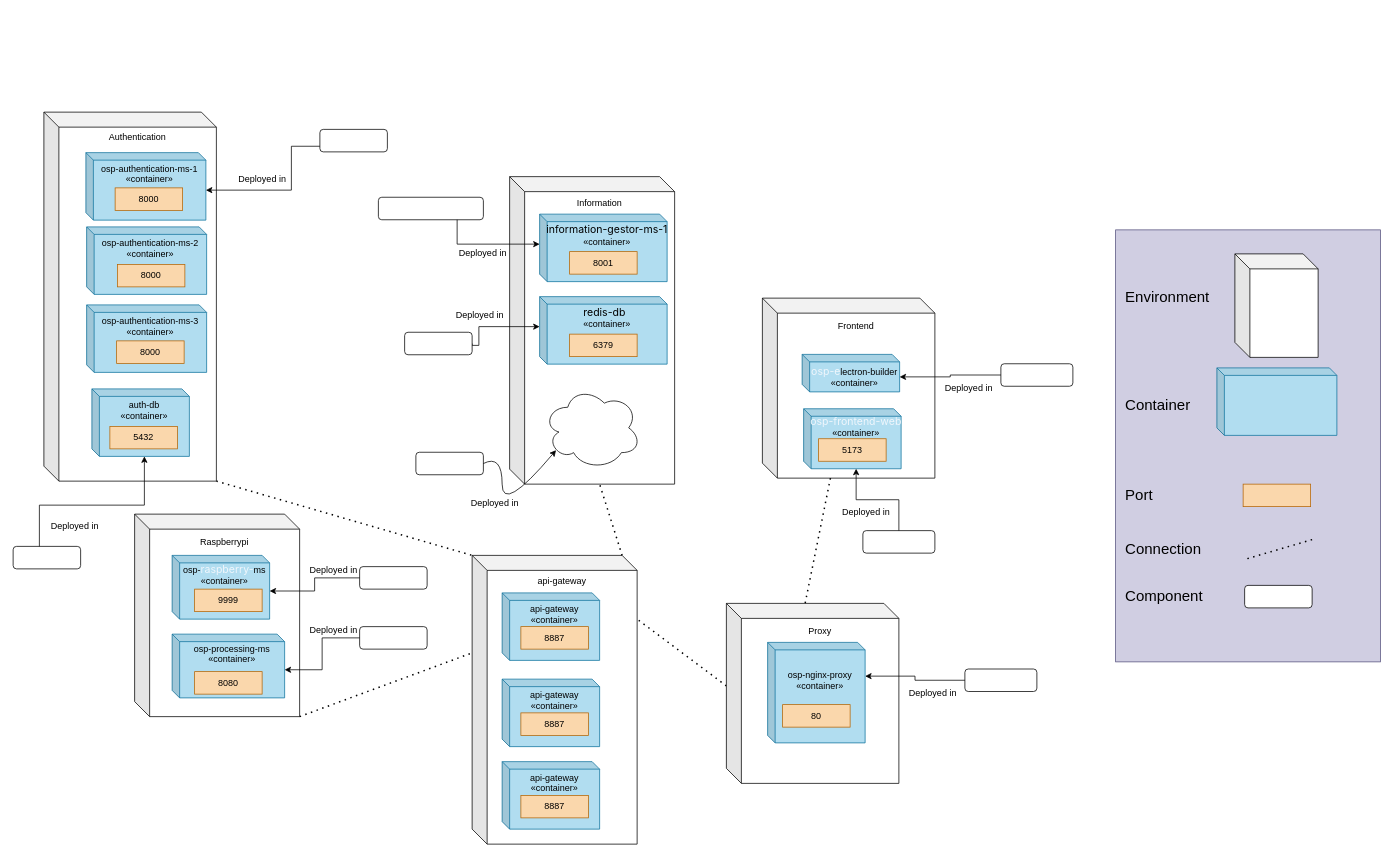
The diagram is 1394 pixels wide and 857 high, and some of its shapes have lost their labels. Each missing label, with the centre of its shape:
"Auth-db" goes at point 46,557.
"mongo-db" goes at point 449,463.
"osp-app" goes at point 1036,374.
"osp-auth" goes at point 353,140.
"osp-frontend-web" goes at point 898,541.
"osp-home-ms" goes at point 393,637.
"osp-information-ms" goes at point 430,208.
"osp-nginx-proxy" goes at point 1000,680.
"osp-raspberry" goes at point 393,577.
"redis-db" goes at point 438,343.
